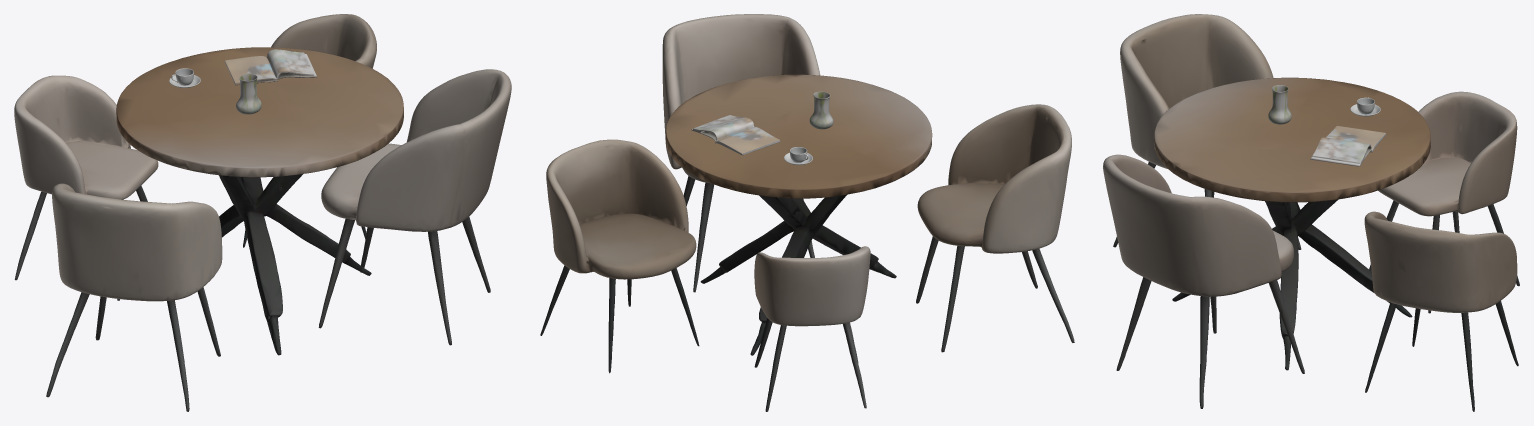
Rendered from rest3d.glb.
3 views of the same model, side by side, from view 1: azimuth 30°, elevation 25°; view 2: azimuth 150°, elevation 25°; view 3: azimuth 270°, elevation 25° (orthographic). The views are drawn at different scales.
Visible parts, largest first — view 1: World; view 2: World; view 3: World.
Part boxes in pixels (<box>): World: <box>14,14,511,411</box>; World: <box>540,14,1074,411</box>; World: <box>1103,14,1519,411</box>.
Size of what is drawn, in the model's own units: 1.53 by 0.7682 by 1.27.
